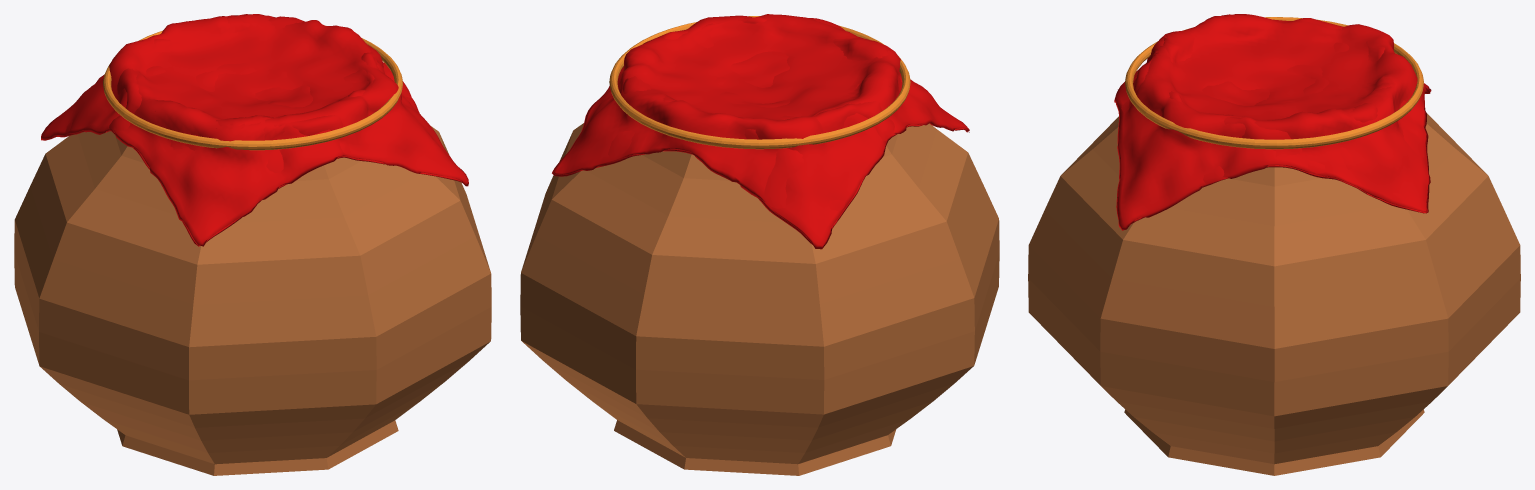
The model's file is ThaiJar.glb.
3 renders of one model, left to right at view 1: azimuth 30°, elevation 25°; view 2: azimuth 150°, elevation 25°; view 3: azimuth 270°, elevation 25°, orthographic.
Visible parts, largest first — view 1: ThaiJar; view 2: ThaiJar; view 3: ThaiJar.
Boxes of the visible parts, <box> form: ThaiJar: <box>14,14,491,475</box>; ThaiJar: <box>520,14,999,475</box>; ThaiJar: <box>1028,14,1520,475</box>.
Bounding box in the file's own units: 1.31 × 1.04 × 1.31.
